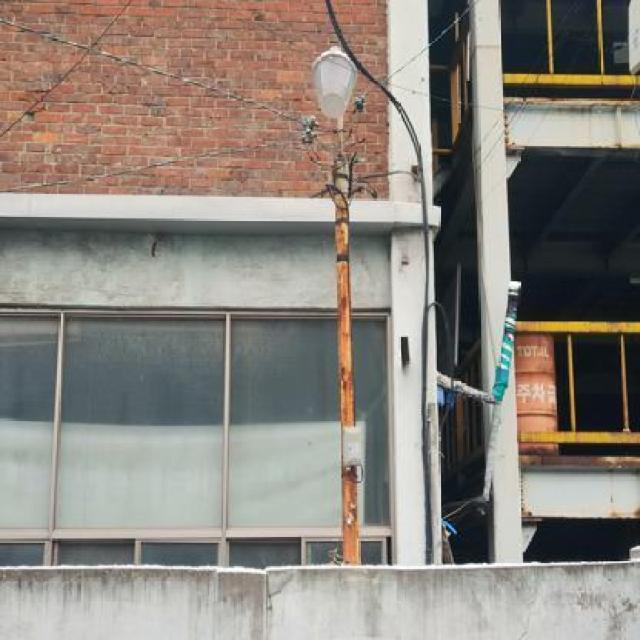pole: (298, 43, 377, 566)
